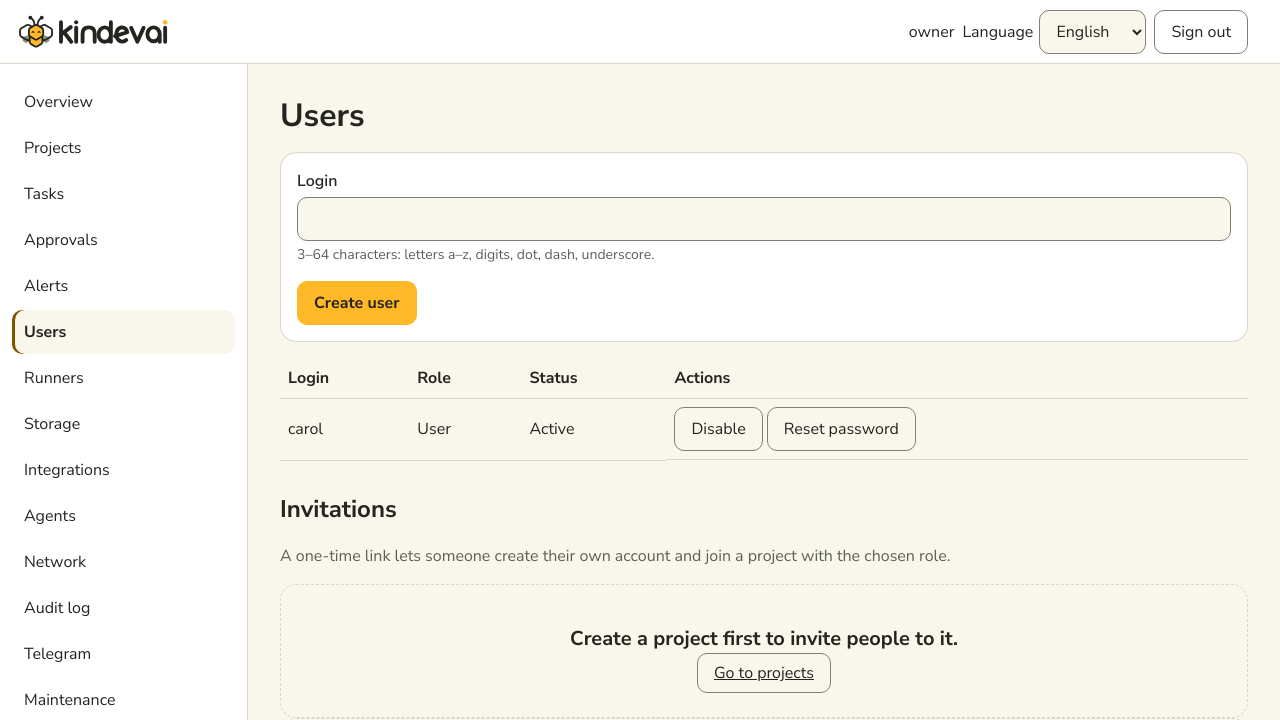
users page (owner) › disables with confirmation and resets passwords
Click the button with aria-label "Disable carol" at (719, 429), box [674,407,763,451]
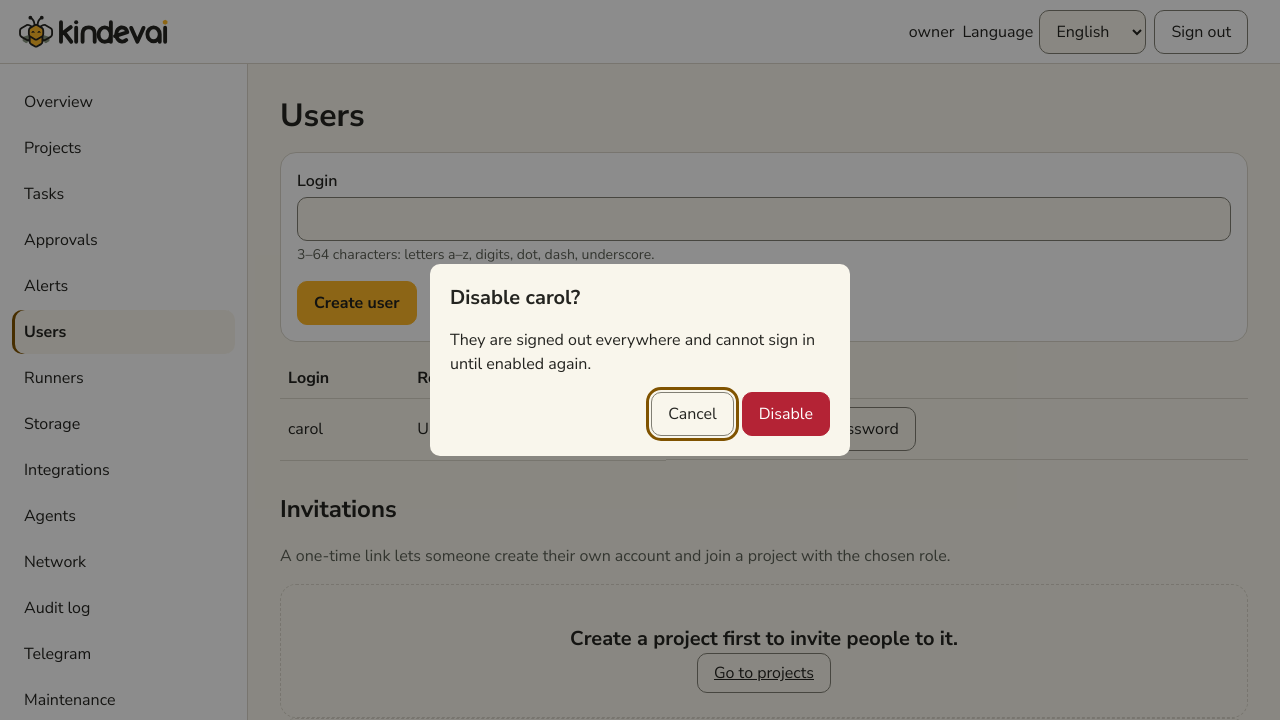
Click the button "Disable" at (786, 414), box [742,392,830,436]
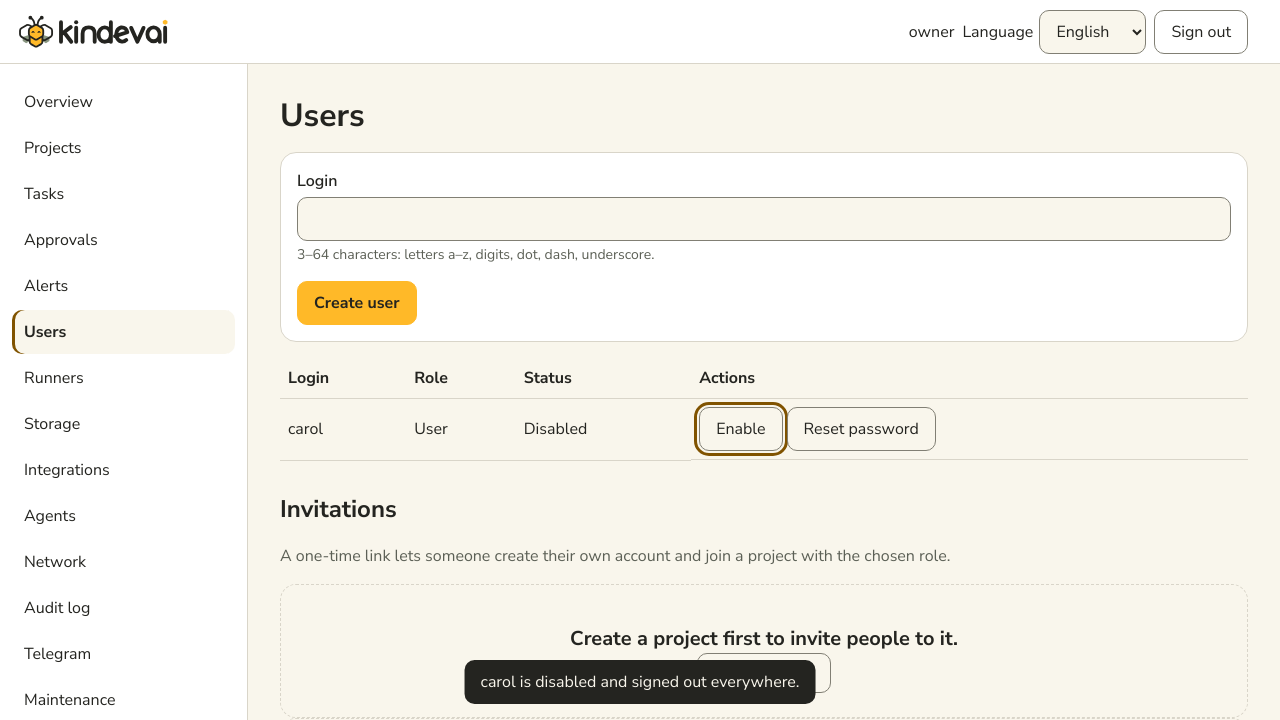
expect the text "carol is disabled and signed out everywhere." is shown: met, box [464,660,815,704]
expect the text "Disabled" is shown: met, box [516,398,691,460]
expect the button with aria-label "Enable carol" is shown: met, box [699,407,782,451]
Click the button with aria-label "Reset password for carol" at (861, 429), box [786,407,936,451]
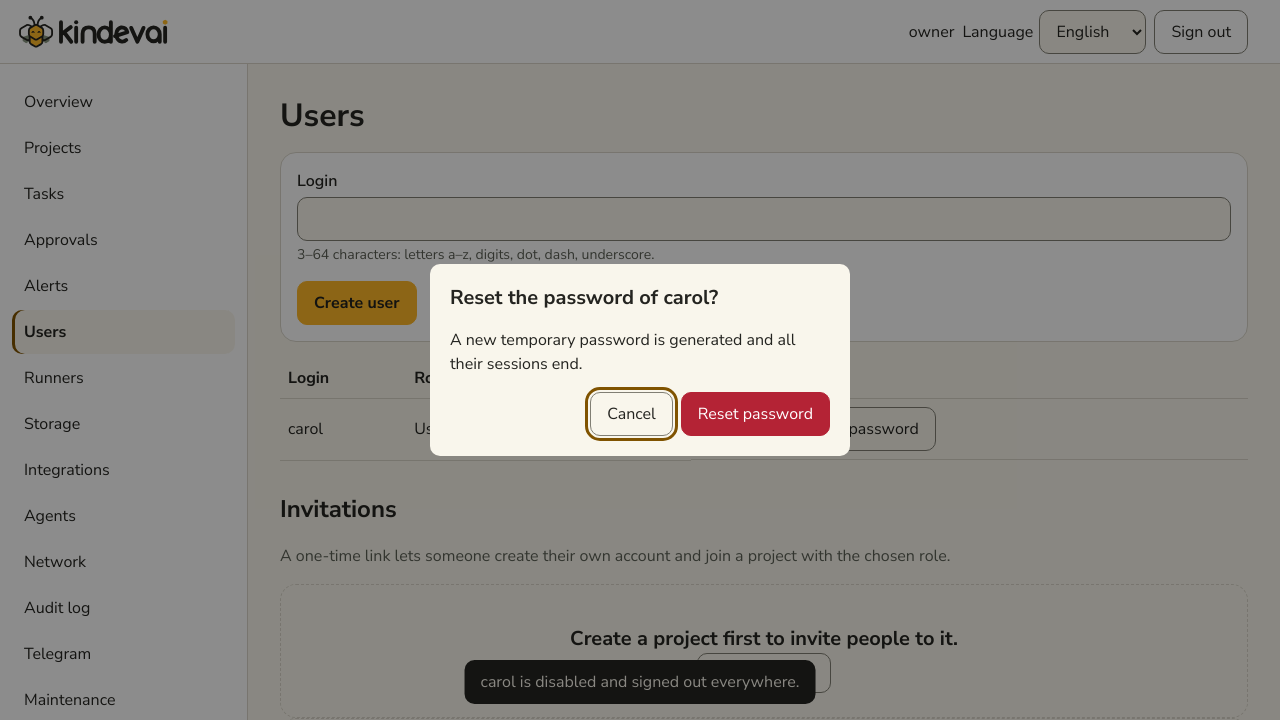
Click the button "Reset password" at (755, 414), box [681,392,830,436]
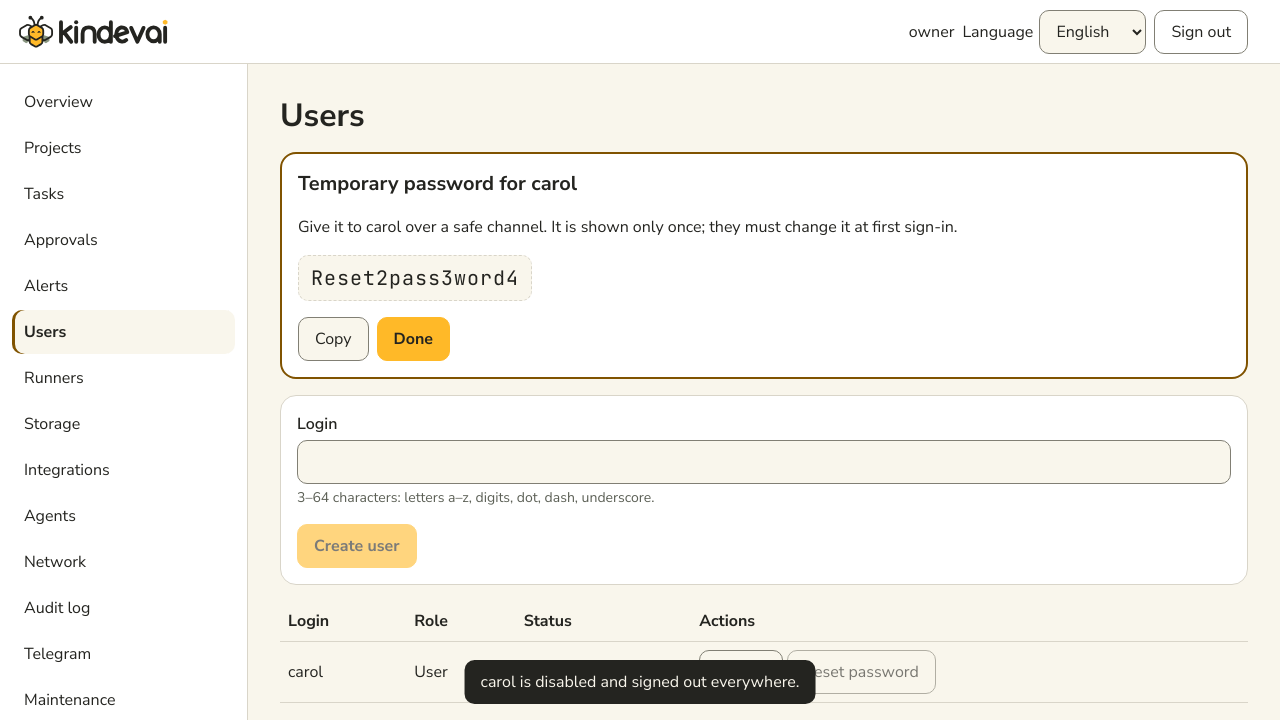
expect the text "Reset2pass3word4" is shown: met, box [298,255,532,301]
